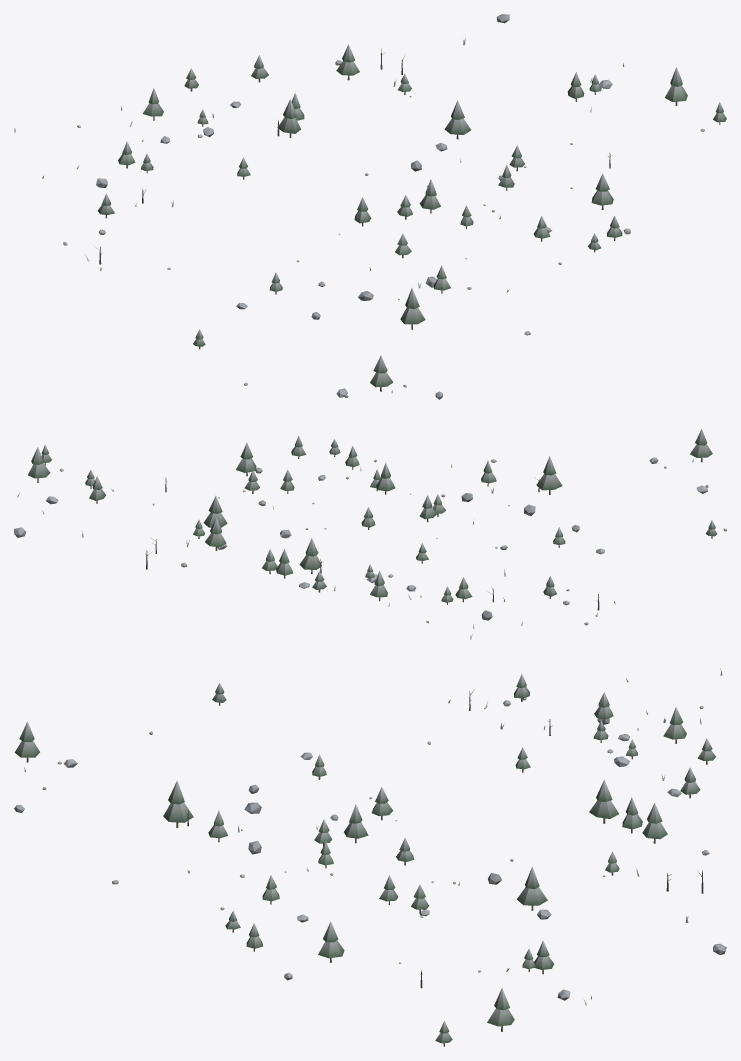
The model's file is frost_land_scatter_c15_11_lod1.glb.
3 views of the same model, one above another, from view 1: azimuth 30°, elevation 25°; view 2: azimuth 150°, elevation 25°; view 3: azimuth 270°, elevation 25° (orthographic). The views are drawn at different scales.
Visible parts, largest first — view 1: frost_land_scatter_c15_11_lod1; view 2: frost_land_scatter_c15_11_lod1; view 3: frost_land_scatter_c15_11_lod1.
Part boxes in pixels (x1=…): frost_land_scatter_c15_11_lod1: x1=14, y1=14, x2=726, y2=399; frost_land_scatter_c15_11_lod1: x1=14, y1=429, x2=726, y2=639; frost_land_scatter_c15_11_lod1: x1=14, y1=668, x2=726, y2=1046.
Bounding box in the file's own units: 256 × 39.52 × 222.
